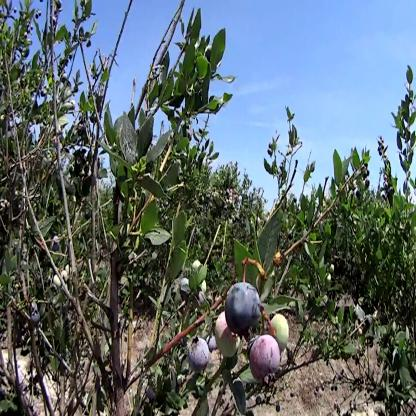mature: (230, 285, 259, 336), (253, 341, 279, 381), (191, 338, 210, 371), (31, 311, 41, 325)
young: (212, 314, 232, 358), (271, 313, 292, 342), (53, 271, 72, 288)
